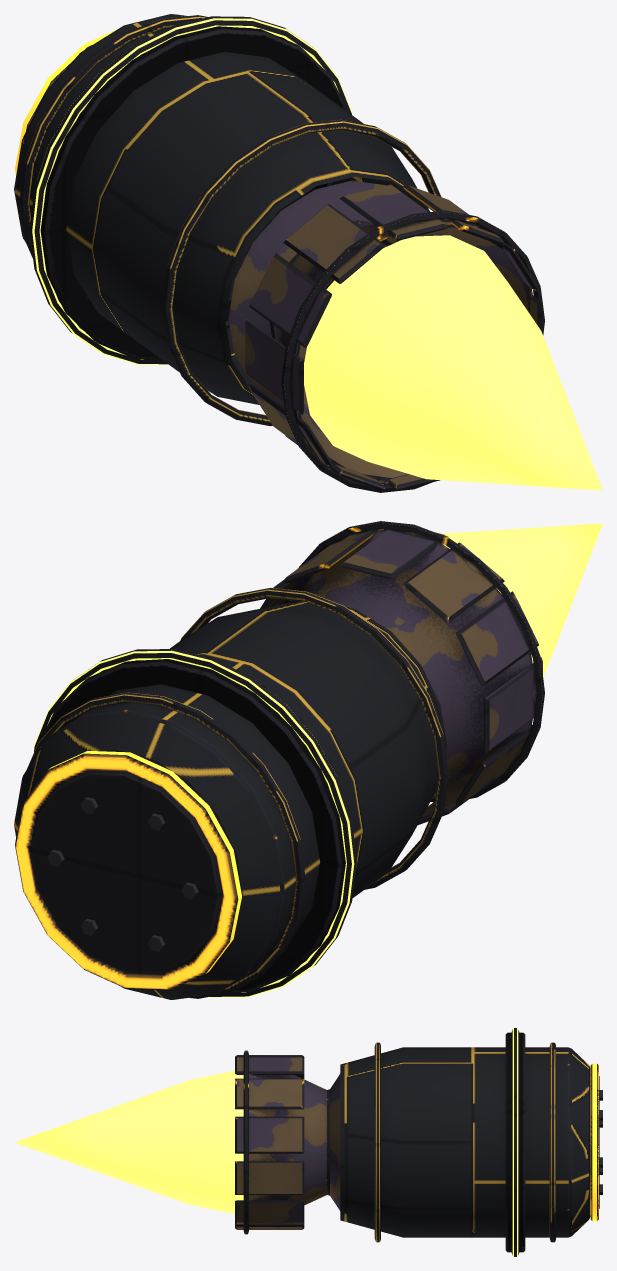
Rendered from motor_turbo_t4.fbx.
3 renders of one model, top to bottom at view 1: azimuth 30°, elevation 25°; view 2: azimuth 150°, elevation 25°; view 3: azimuth 270°, elevation 25°, orthographic. The views are drawn at different scales.
Parts seen in each view (by area): view 1: motor_turbo_t4, motor_turbo_t4_llama, motor_turbo_t4_neon; view 2: motor_turbo_t4, motor_turbo_t4_llama, motor_turbo_t4_neon; view 3: motor_turbo_t4, motor_turbo_t4_llama, motor_turbo_t4_neon.
Boxes of the visible parts, x1=… form: motor_turbo_t4: x1=14, y1=14, x2=544, y2=492; motor_turbo_t4_llama: x1=304, y1=235, x2=602, y2=490; motor_turbo_t4_neon: x1=32, y1=18, x2=352, y2=364; motor_turbo_t4: x1=14, y1=521, x2=544, y2=999; motor_turbo_t4_llama: x1=441, y1=523, x2=602, y2=677; motor_turbo_t4_neon: x1=33, y1=650, x2=354, y2=997; motor_turbo_t4: x1=235, y1=1028, x2=602, y2=1256; motor_turbo_t4_llama: x1=14, y1=1070, x2=243, y2=1214; motor_turbo_t4_neon: x1=512, y1=1028, x2=518, y2=1256.
Bounding box in the file's own units: 3.49 × 3.46 × 8.95.
